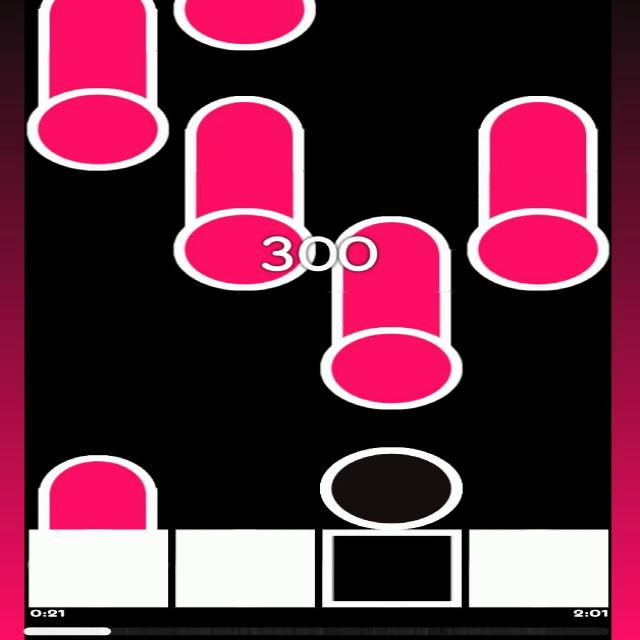end_hold: (179, 89, 309, 140), (330, 207, 454, 259), (475, 84, 601, 135), (34, 448, 162, 496), (27, 0, 166, 25)
note: (320, 446, 463, 529)
start_hold: (467, 189, 610, 289), (174, 195, 318, 291), (29, 74, 169, 171), (319, 320, 464, 411), (175, 0, 316, 52)
